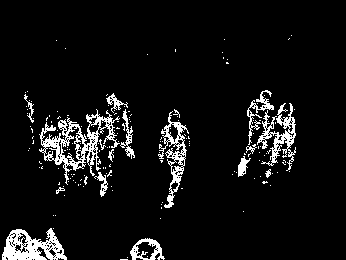person: (152, 106, 193, 212), (242, 84, 274, 175), (103, 90, 137, 160), (82, 114, 111, 195), (270, 100, 297, 183), (60, 116, 88, 181), (40, 112, 62, 163)
